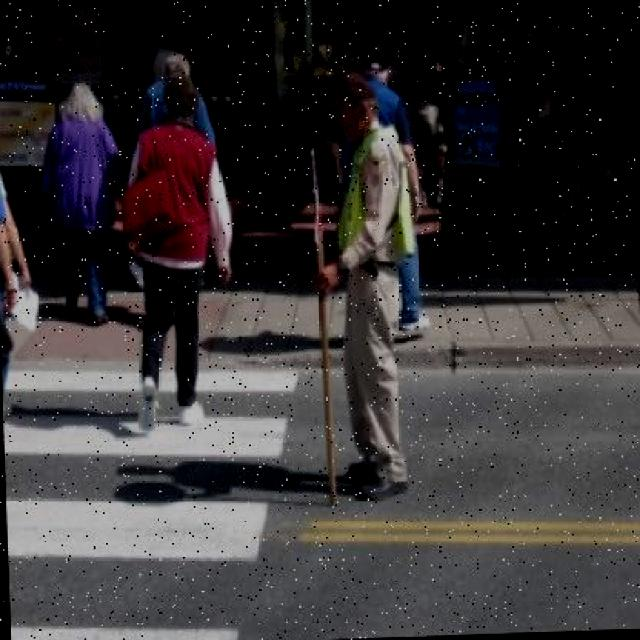Person: (310, 73, 418, 504), (126, 69, 238, 426), (37, 81, 128, 332)
